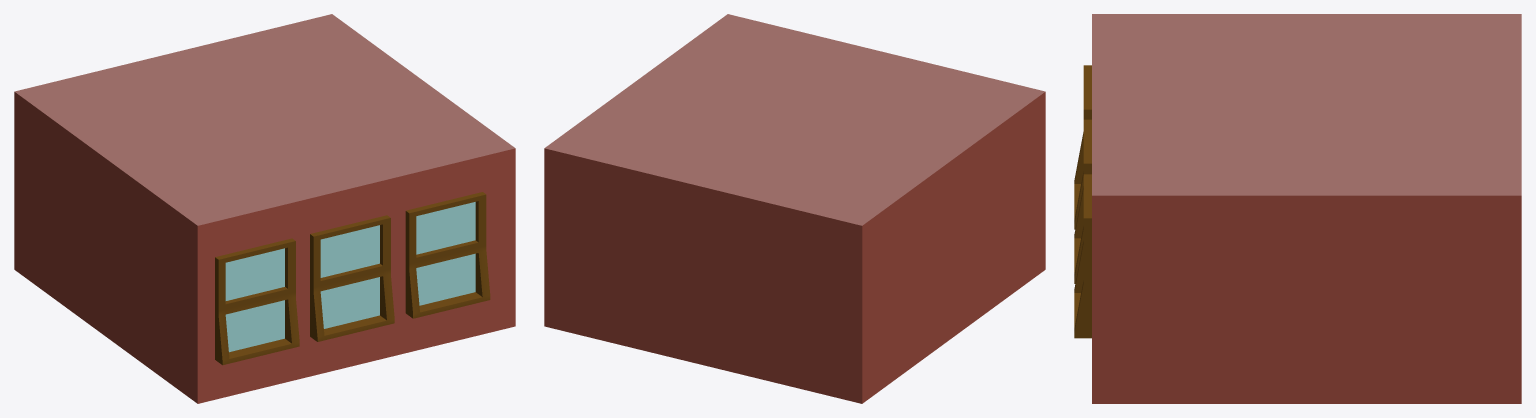
The model's file is LevelV1.fbx.
3 views of the same model, side by side, from view 1: azimuth 30°, elevation 25°; view 2: azimuth 150°, elevation 25°; view 3: azimuth 270°, elevation 25° (orthographic). The views are drawn at different scales.
Visible parts, largest first — view 1: pCube6, pCube9, pCube7, pCube8; view 2: pCube6; view 3: pCube6, pCube9, pCube7, pCube8.
Part boxes in pixels (<box>): pCube6: <box>14,14,515,403</box>; pCube9: <box>405,192,490,318</box>; pCube7: <box>310,215,394,341</box>; pCube8: <box>215,238,299,365</box>; pCube6: <box>544,14,1045,403</box>; pCube6: <box>1092,14,1521,403</box>; pCube9: <box>1074,174,1091,338</box>; pCube7: <box>1074,119,1091,283</box>; pCube8: <box>1074,65,1091,229</box>.
Size of the model in its own units: 25 by 13.39 by 26.02.
